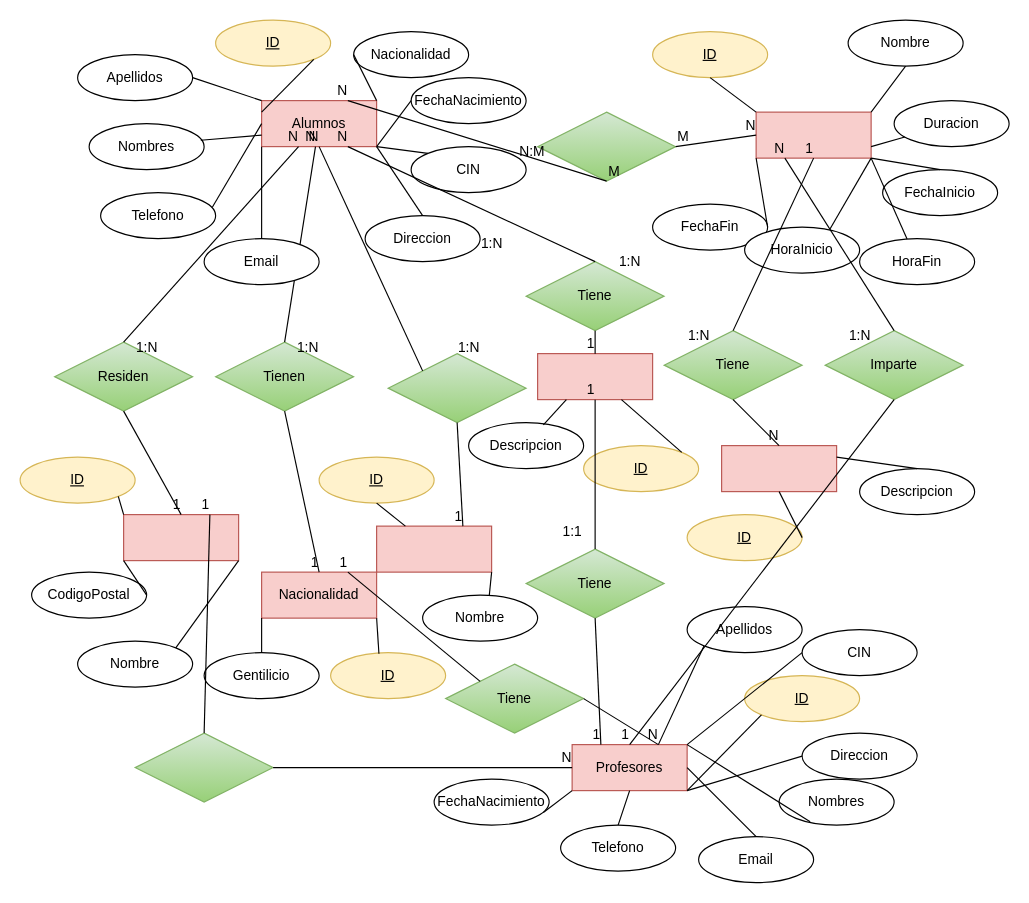
This 1029x903 diagram has some shape labels left out. Each missing label, with the centre of its shape:
"Asiste" goes at (606,146).
"Barrio" goes at (433,548).
"Ciudades" goes at (180,537).
"Curso" goes at (813,134).
"Recide" goes at (203,767).
"Sexo" goes at (594,376).
"Turno" goes at (778,468).
"Vive" goes at (456,387).
